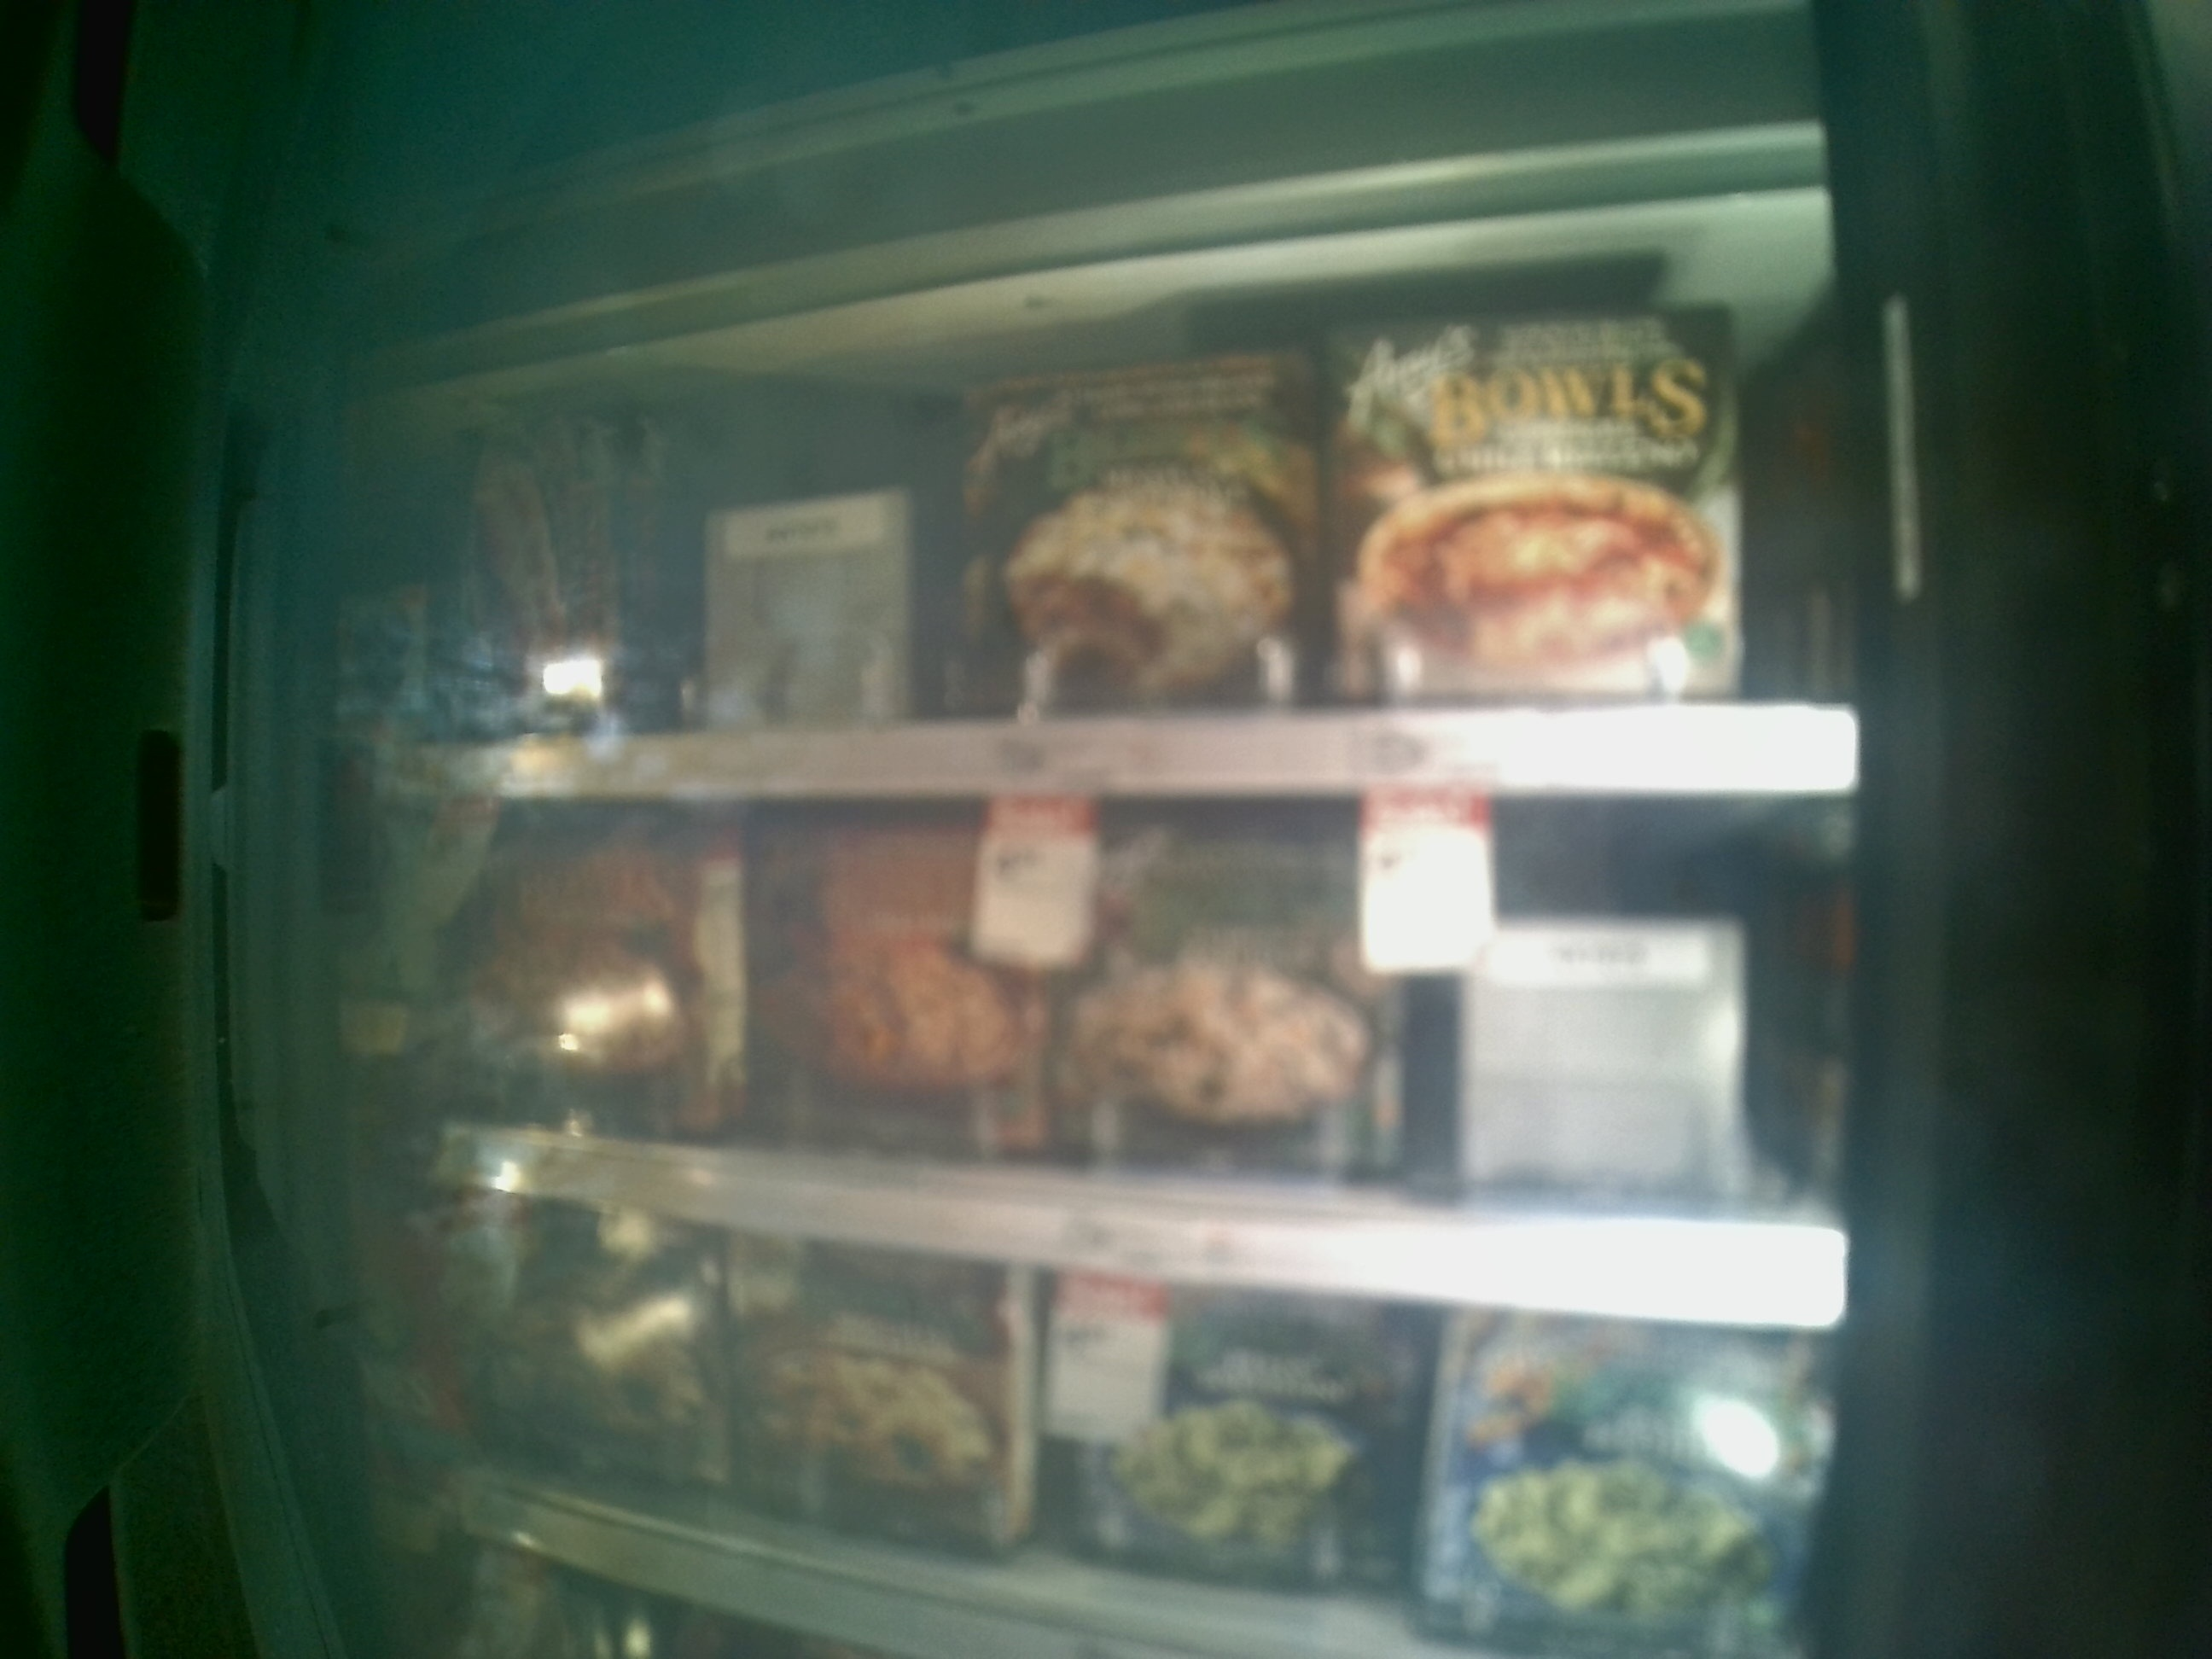frozen-food-shelf: (394, 788, 1865, 1331), (394, 387, 1872, 793)
